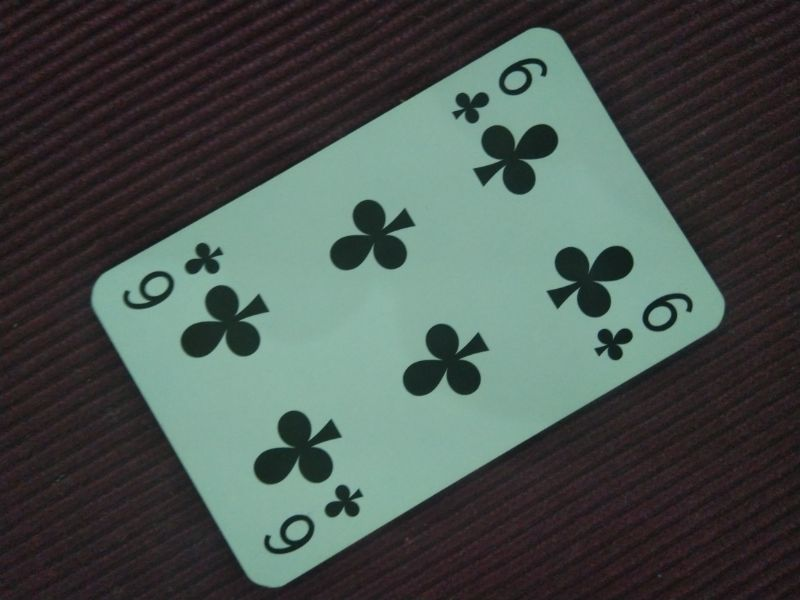6c: (120, 234, 227, 314), (591, 290, 698, 362), (263, 482, 365, 555), (448, 56, 555, 124)
